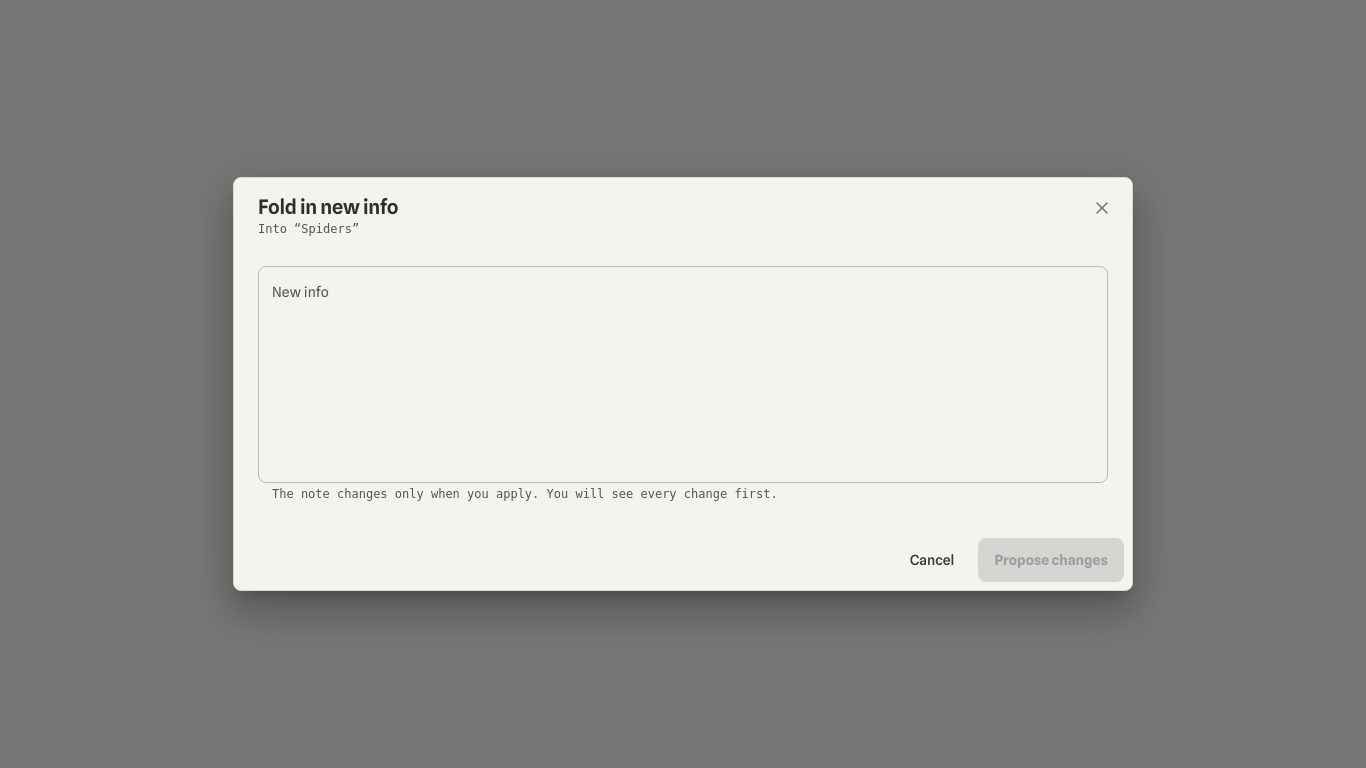
it: FoldInSheet › proposes with the note id and the text, and writes nothing
Replace the text in the text box labelled "New info" with "found a brown widow; the hourglass is red" at (683, 374), box [272,282,1094,466]
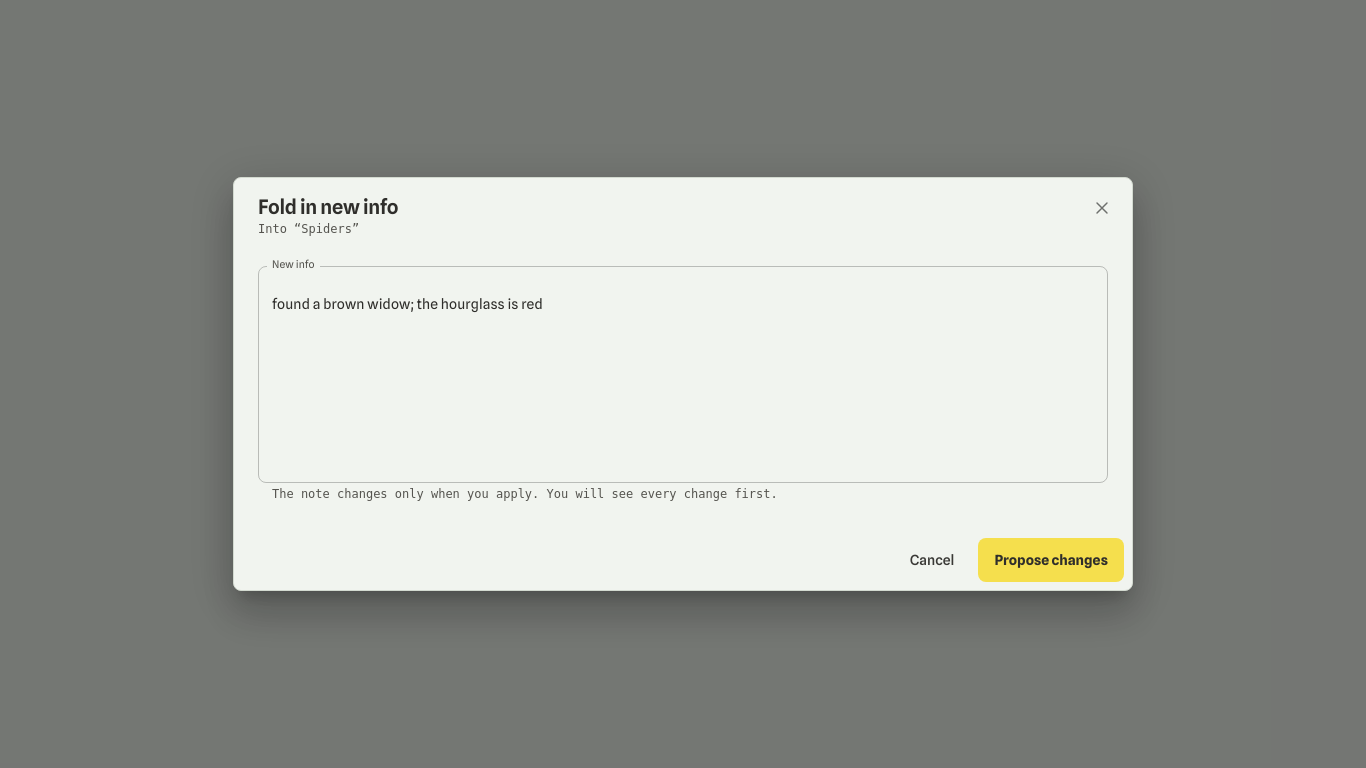
Click the button "Propose changes" at (1051, 560), box [978,538,1124,582]
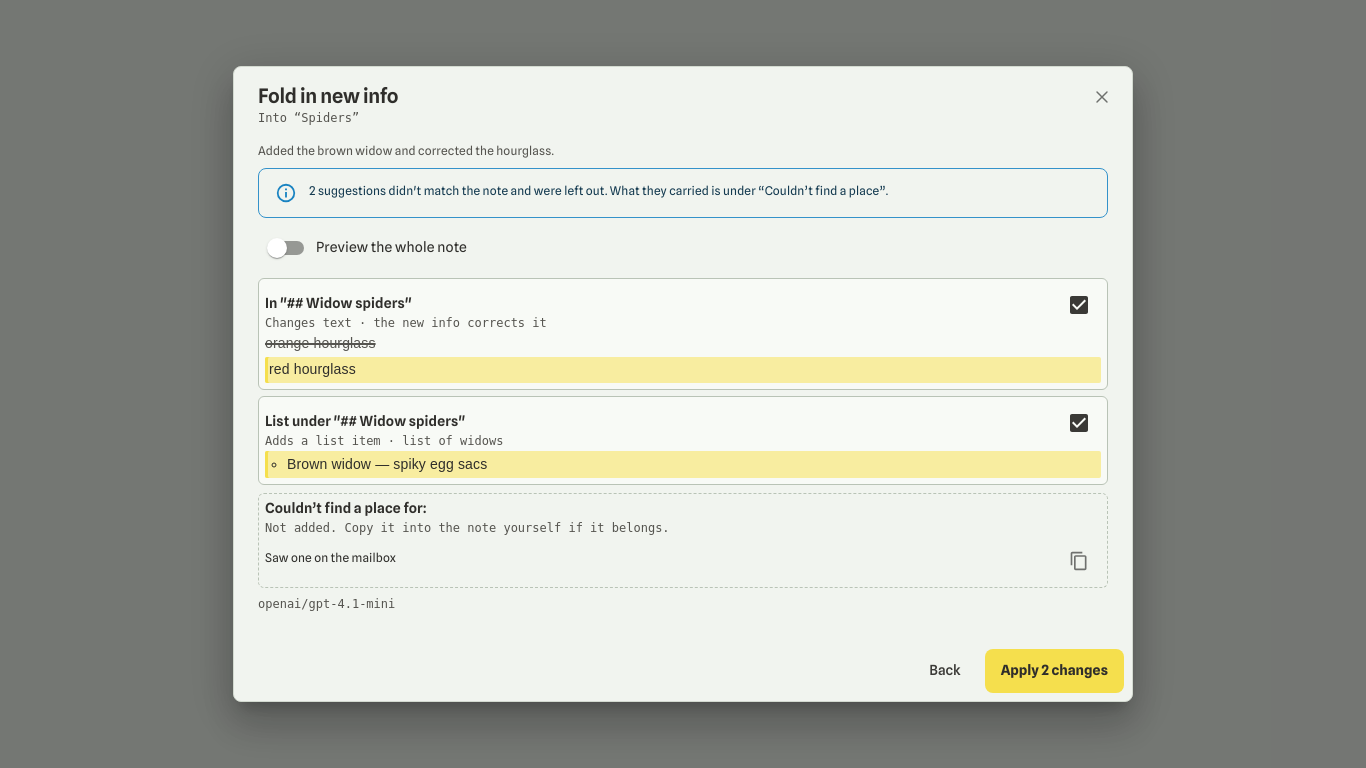
Expected: the list named "Proposed changes" is shown, [258,278,1108,486]
